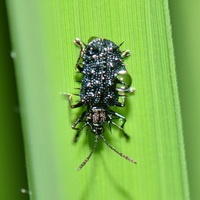insect: (66, 37, 136, 169)
